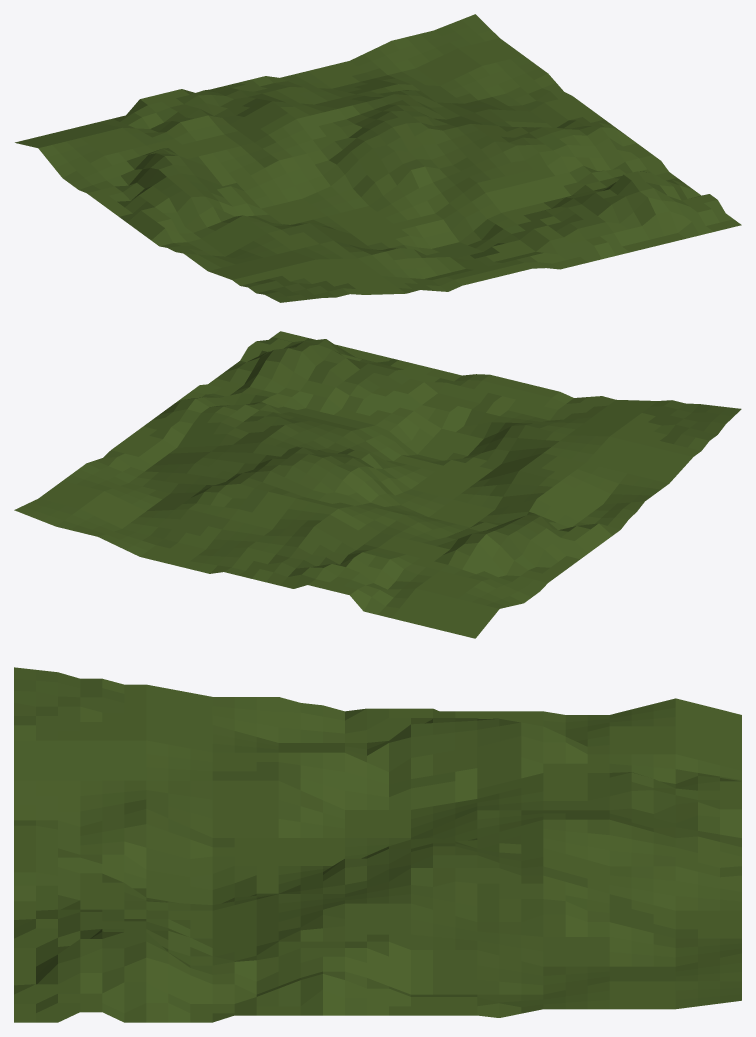
File: TerrainType2.fbx
3 views of the same model, one above another, from view 1: azimuth 30°, elevation 25°; view 2: azimuth 150°, elevation 25°; view 3: azimuth 270°, elevation 25° (orthographic). The views are drawn at different scales.
Visible parts, largest first — view 1: Plane; view 2: Plane; view 3: Plane.
Boxes of the visible parts, left/top/right/bottom form: Plane: left=15, top=14, right=741, bottom=302; Plane: left=14, top=331, right=741, bottom=638; Plane: left=14, top=667, right=741, bottom=1022.
Size of the model in its own units: 20000 by 2229 by 20000.
